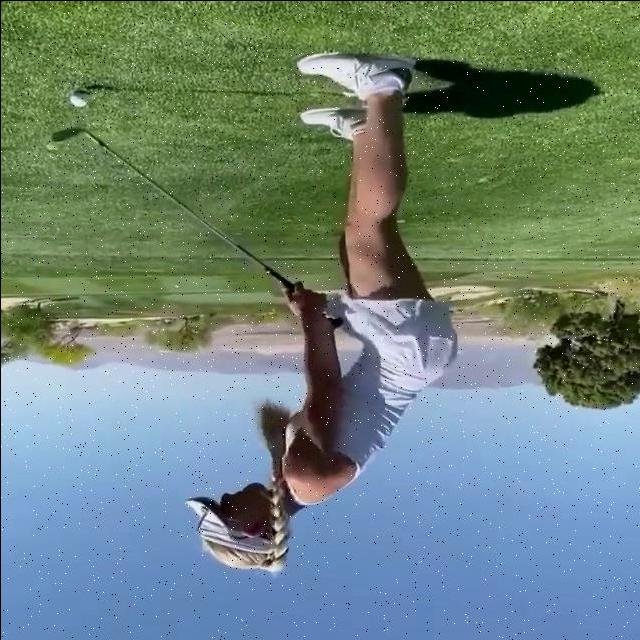golf ball: (68, 89, 87, 105)
golf club-handle: (45, 122, 344, 329)
golf club-head: (48, 126, 80, 142)
